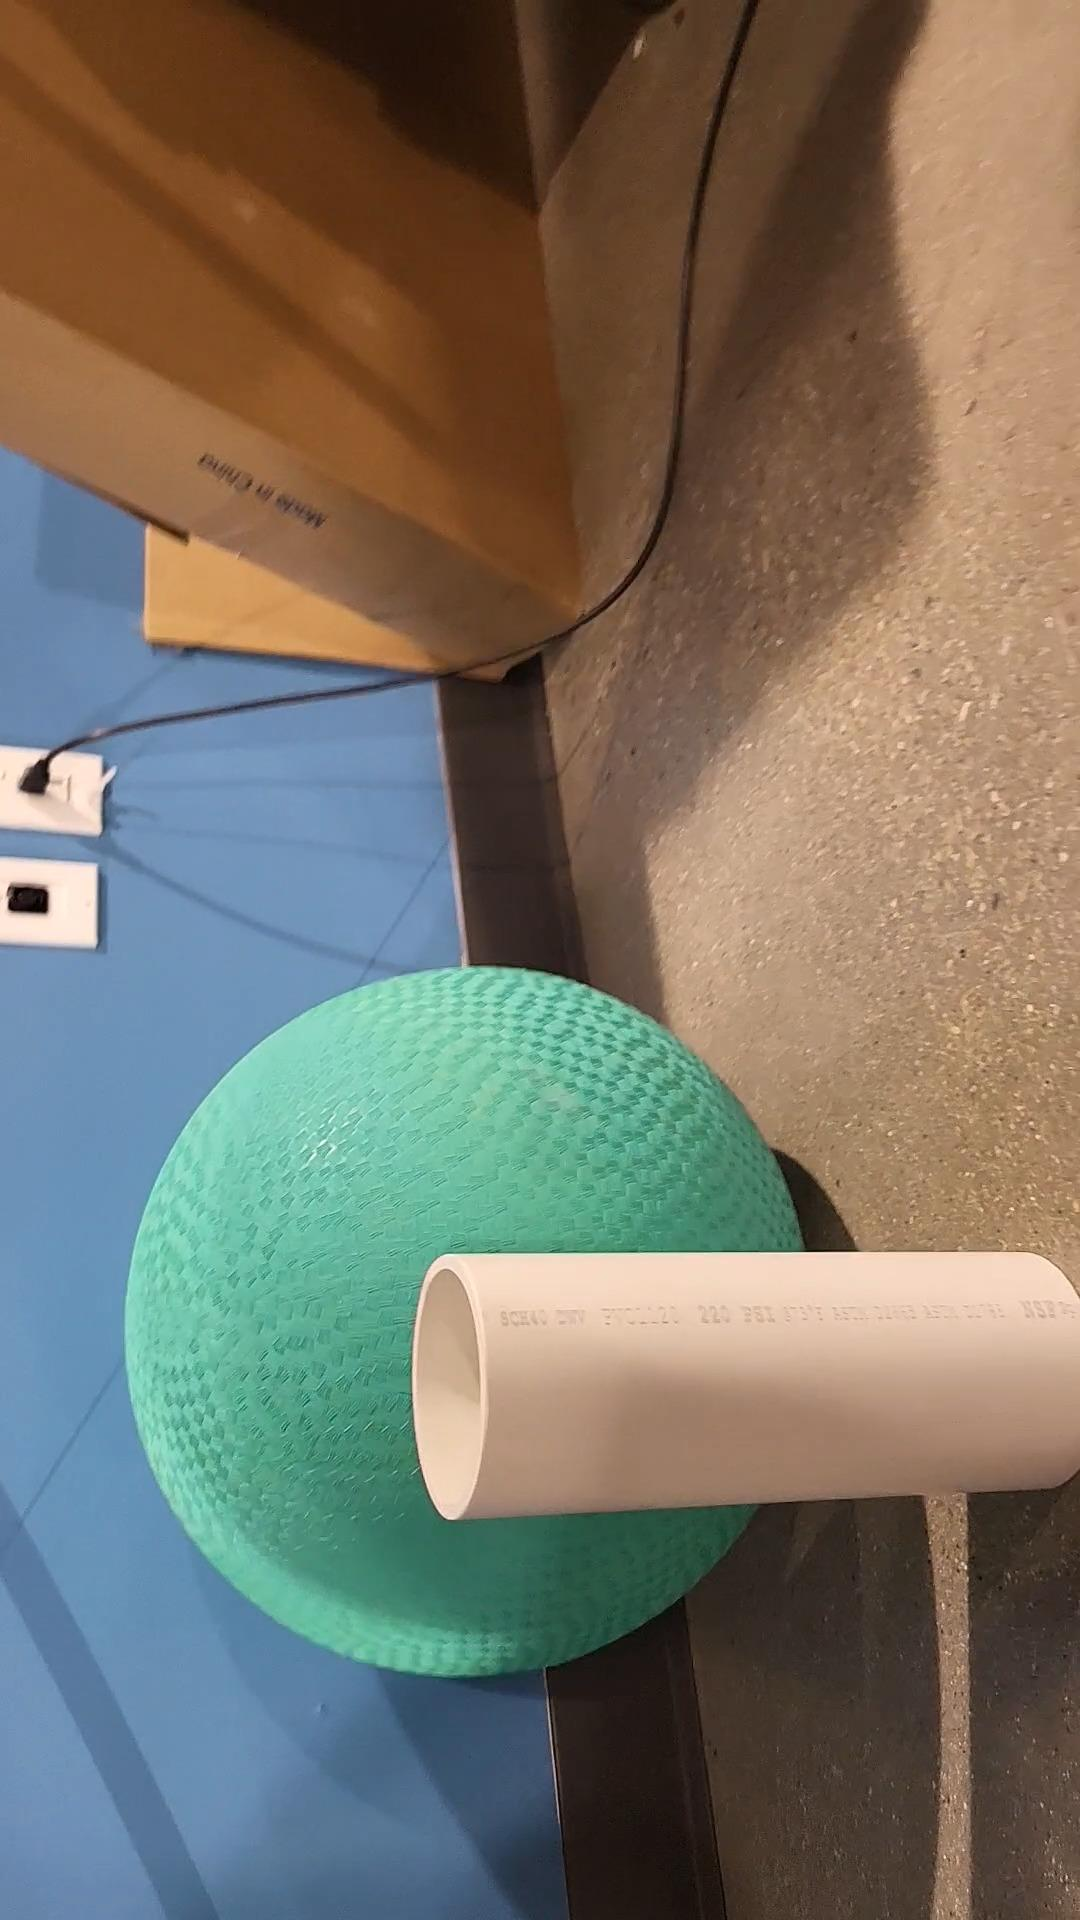algae: (131, 972, 807, 1680)
coral: (418, 1245, 1079, 1524)
